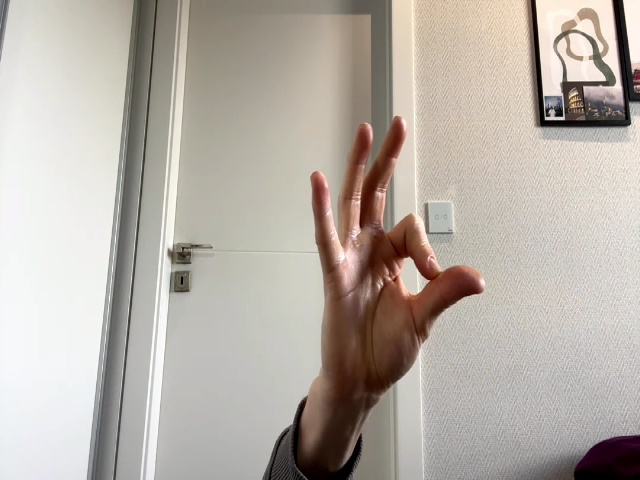S: (310, 116, 485, 397)
